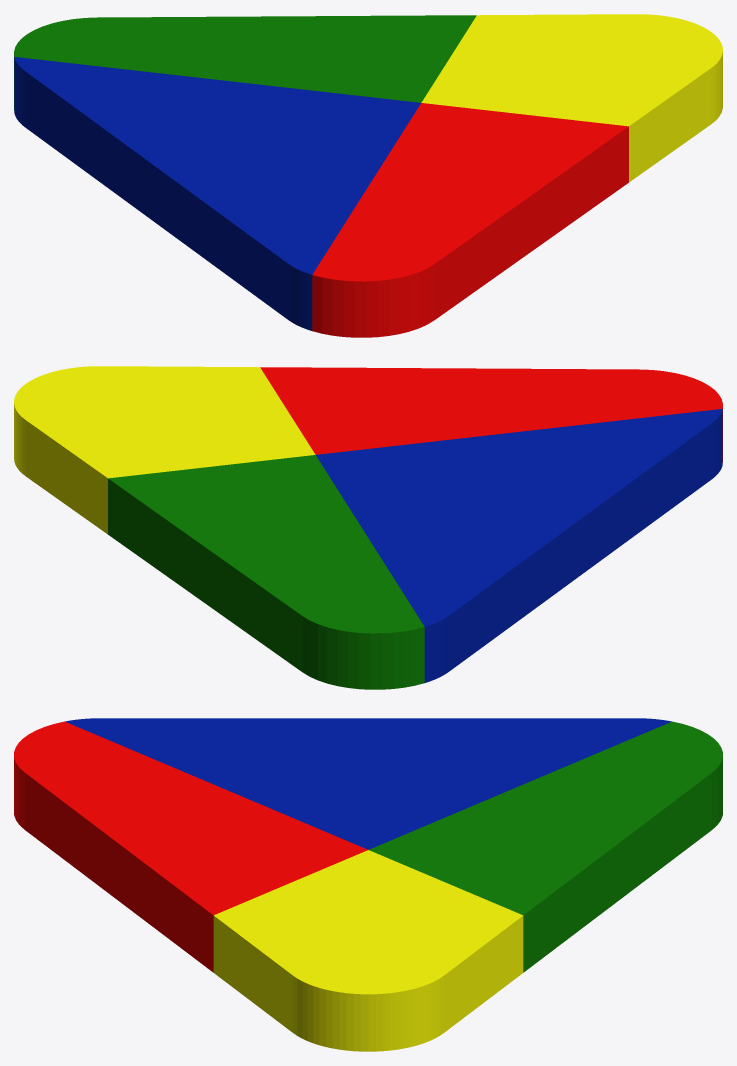
Rendered from playstore.glb.
3 views of the same model, one above another, from view 1: azimuth 30°, elevation 25°; view 2: azimuth 150°, elevation 25°; view 3: azimuth 270°, elevation 25° (orthographic).
Parts seen in each view (by area): view 1: Curve.002; view 2: Curve.002; view 3: Curve.002.
Part boxes in pixels (x1,y1,x2,y2): Curve.002: [14, 14, 722, 337]; Curve.002: [14, 366, 722, 689]; Curve.002: [14, 718, 722, 1051].
Size of the model in its own units: 0.0536 by 0.0052 by 0.0582.
